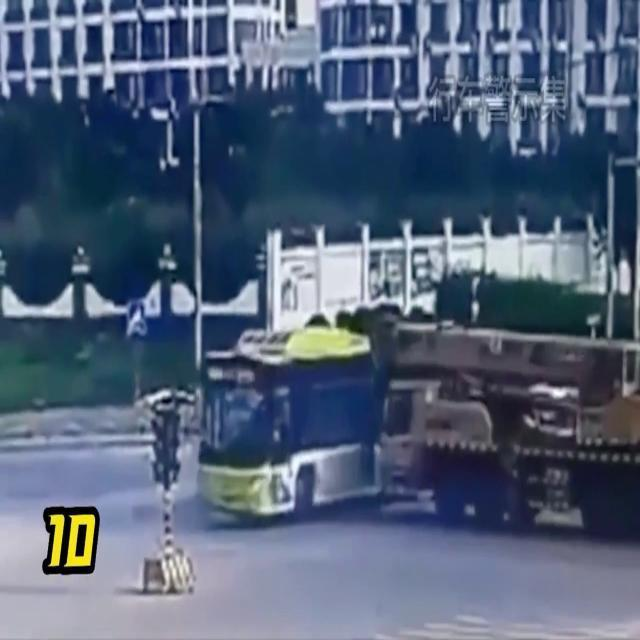accident: (196, 326, 640, 528)
